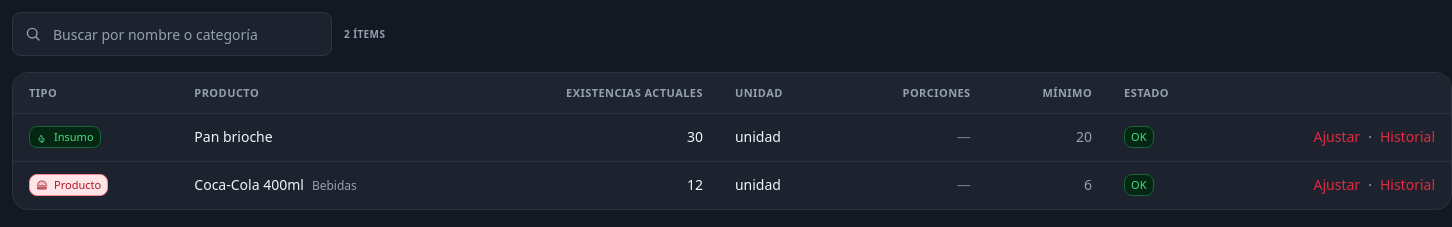
Test: buscador de existencias › sin coincidencias no dice que el inventario está vacío
The width and height of the screenshot is (1452, 227).
Type "zzzz" into the search field named "Buscar existencias por nombre o categoría" at (172, 34), box [13,13,331,55]
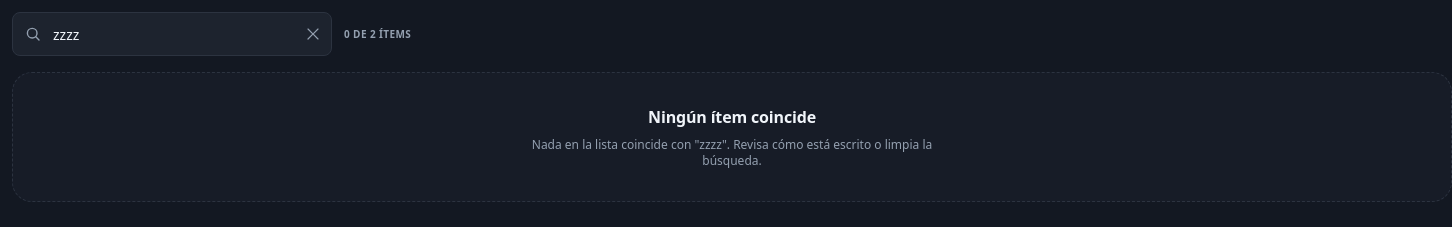
Expected: the heading "Ningún ítem coincide" is shown, [648,105,816,129]
